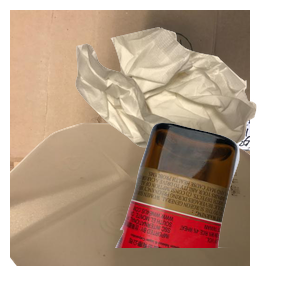cardboard: (10, 10, 250, 190)
glass: (113, 120, 300, 300)
plastic: (10, 120, 250, 300)
trash: (73, 25, 300, 183)
